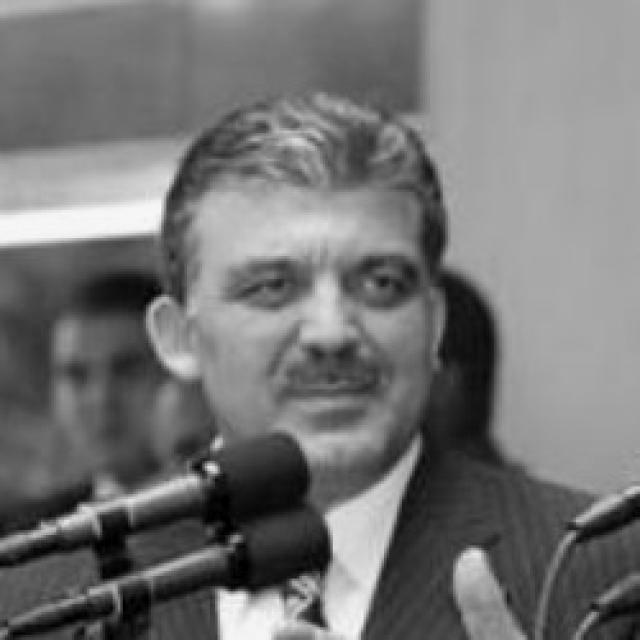real: (170, 98, 466, 486), (212, 255, 428, 323)
